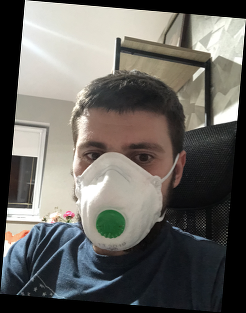with_mask: (68, 137, 173, 253)
